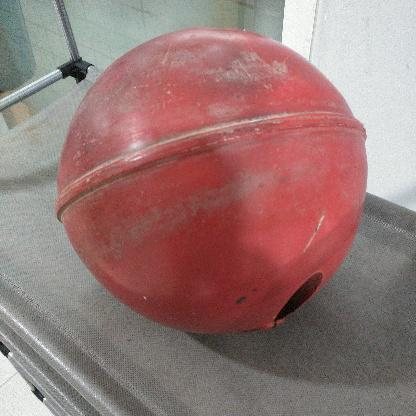red_buoy: (52, 32, 370, 334)
